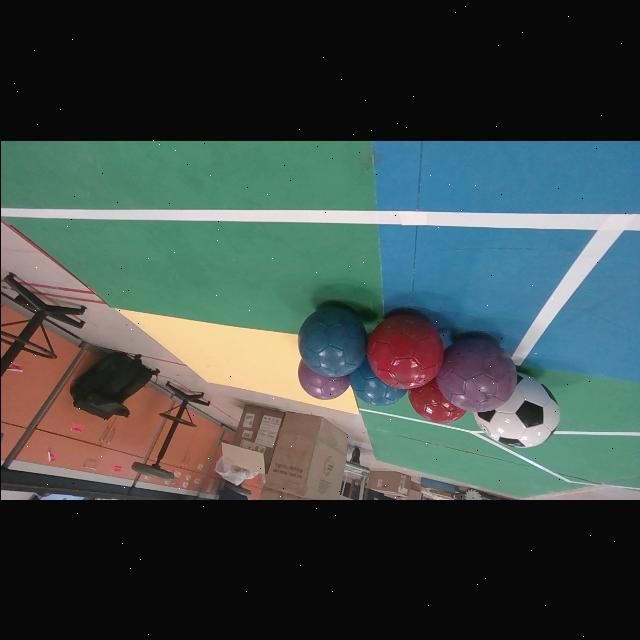B: (297, 305, 367, 377), (347, 358, 406, 406)
P: (436, 337, 517, 411), (297, 360, 349, 400)
R: (367, 314, 444, 390), (408, 379, 466, 424)
